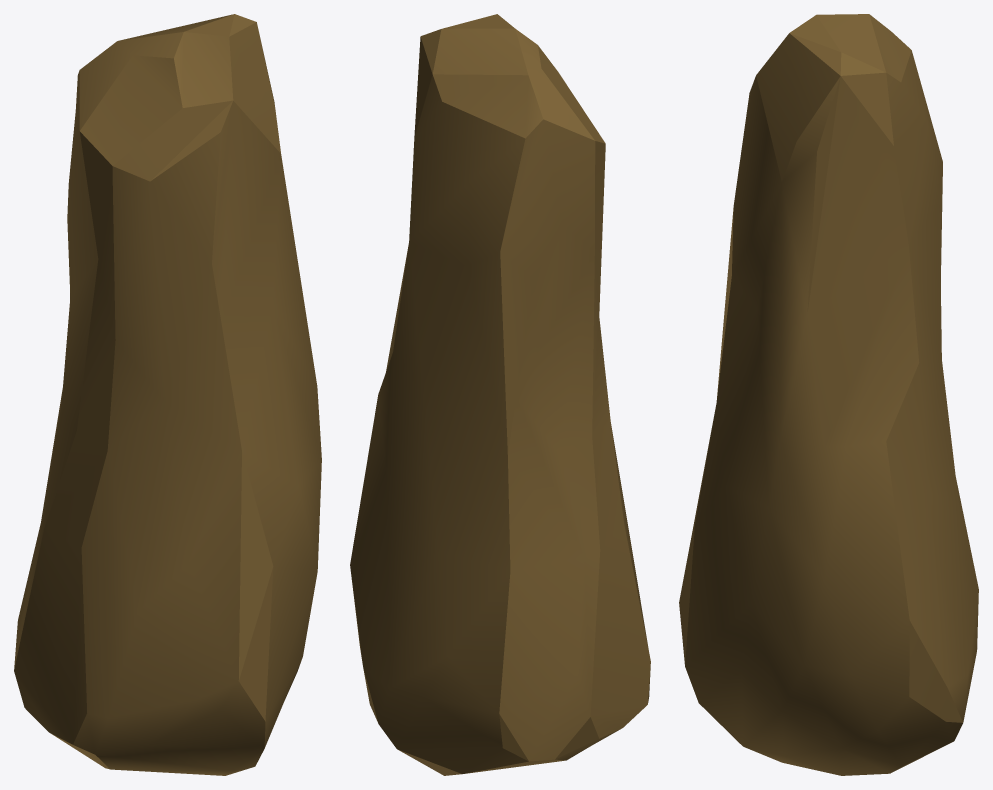
Rendered from RockL.FBX.
3 renders of one model, left to right at view 1: azimuth 30°, elevation 25°; view 2: azimuth 150°, elevation 25°; view 3: azimuth 270°, elevation 25°, orthographic. The views are drawn at different scales.
Parts seen in each view (by area): view 1: GeoSphere009; view 2: GeoSphere009; view 3: GeoSphere009.
Boxes of the visible parts, x1=… form: GeoSphere009: x1=14, y1=14, x2=321, y2=775; GeoSphere009: x1=350, y1=14, x2=650, y2=775; GeoSphere009: x1=679, y1=14, x2=978, y2=775.
Bounding box in the file's own units: 116 × 323 × 118.
